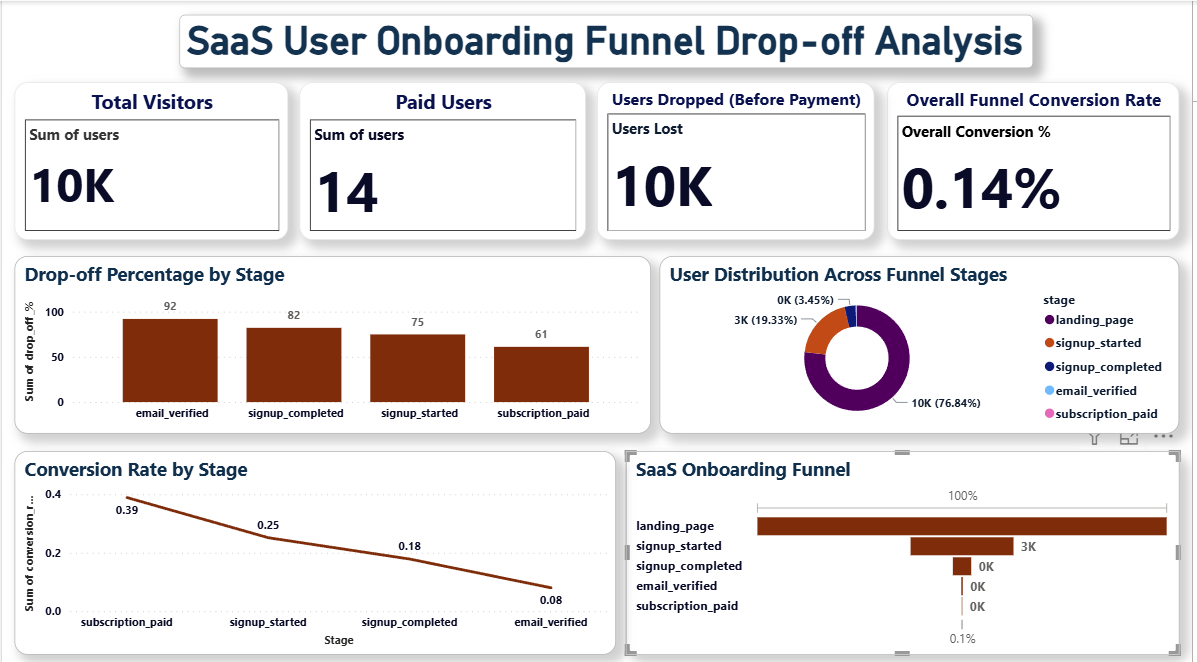

The dashboard page shown, as its layout file describes it:
{"tool":"powerbi","page":{"name":"Page 1","canvas":[1280,720],"ordinal":0},"visuals":[{"type":"textbox","title":"SaaS User Onboarding Funnel Drop-off Analysis","box":[191,14.8,918.5,57.8],"z":0},{"type":"funnel","title":"SaaS Onboarding Funnel","fields":{"Category":["funnel_output.stage"],"Y":["Sum(funnel_output.users)"]},"box":[671.1,484.1,595.8,219.2],"z":1000},{"type":"clusteredColumnChart","title":"Drop-off  Percentage by Stage","fields":{"Category":["funnel_output.stage"],"Y":["Sum(funnel_output.drop_off_%)"]},"box":[13.4,274.3,684.5,191],"z":2000},{"type":"lineChart","title":"Conversion Rate by Stage","fields":{"Category":["funnel_output.stage"],"Y":["Sum(funnel_output.conversion_rate)"]},"box":[13.4,484.1,646.9,219.2],"z":3000},{"type":"cardVisual","title":"Total Visitors ","fields":{"Data":["Sum(funnel_output.users)"]},"box":[13.4,87.4,294.5,169.4],"z":4000},{"type":"cardVisual","title":"Paid Users","fields":{"Data":["Sum(funnel_output.users)"]},"box":[320.1,87.4,308,169.4],"z":5000},{"type":"cardVisual","title":"Overall Funnel Conversion Rate","fields":{"Data":["funnel_output.Overall Conversion %"]},"box":[952.1,87.4,314.7,169.4],"z":6000},{"type":"cardVisual","title":"Users Dropped (Before Payment)","fields":{"Data":["funnel_output.Users Lost"]},"box":[640.1,87.4,298.6,169.4],"z":7000},{"type":"donutChart","title":"User Distribution Across Funnel Stages","fields":{"Category":["funnel_output.stage"],"Y":["Sum(funnel_output.users)"]},"box":[707.4,274.3,559.4,191],"z":8000}]}

Visuals, with their boxes in screenshot pixels (x1, y1, x2, y2), scaled from the page's 1280x720 canvas onto the 1197x662 screenshot:
"SaaS User Onboarding Funnel Drop-off Analysis" textbox: 179, 14, 1038, 67
"SaaS Onboarding Funnel" funnel: 628, 445, 1185, 647
"Drop-off  Percentage by Stage" clusteredColumnChart: 13, 252, 653, 428
"Conversion Rate by Stage" lineChart: 13, 445, 617, 647
"Total Visitors " cardVisual: 13, 80, 288, 236
"Paid Users" cardVisual: 299, 80, 587, 236
"Overall Funnel Conversion Rate" cardVisual: 890, 80, 1185, 236
"Users Dropped (Before Payment)" cardVisual: 599, 80, 878, 236
"User Distribution Across Funnel Stages" donutChart: 662, 252, 1185, 428
